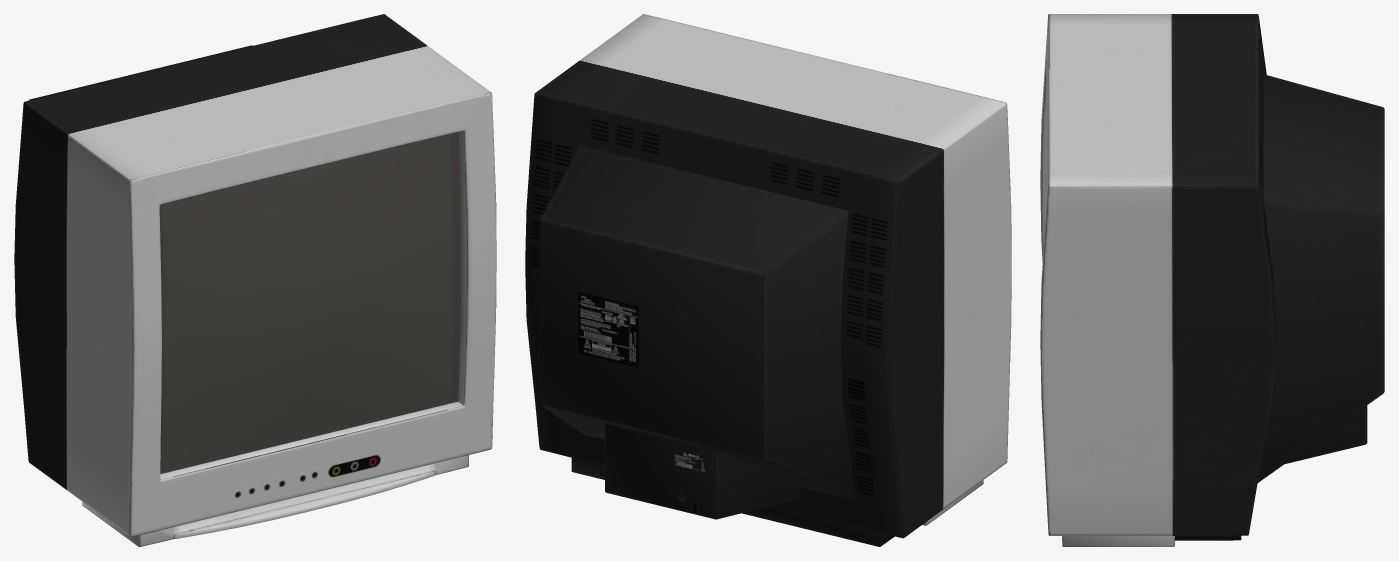
The picture shows the model from 3 angles, left to right: view 1: azimuth 30°, elevation 25°; view 2: azimuth 150°, elevation 25°; view 3: azimuth 270°, elevation 25°; orthographic projection. The views are drawn at different scales.
Visible parts, largest first — view 1: TV; view 2: TV; view 3: TV.
Boxes of the visible parts, <box> form: TV: <box>14,14,496,546</box>; TV: <box>525,14,1011,546</box>; TV: <box>1040,14,1384,546</box>.
Size of the model in its own units: 0.4893 by 0.4846 by 0.4101.
